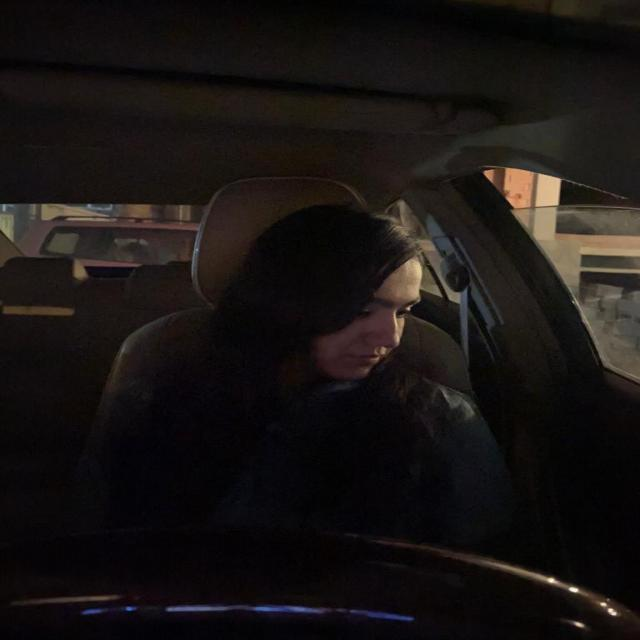drowsy: (284, 210, 437, 400)
